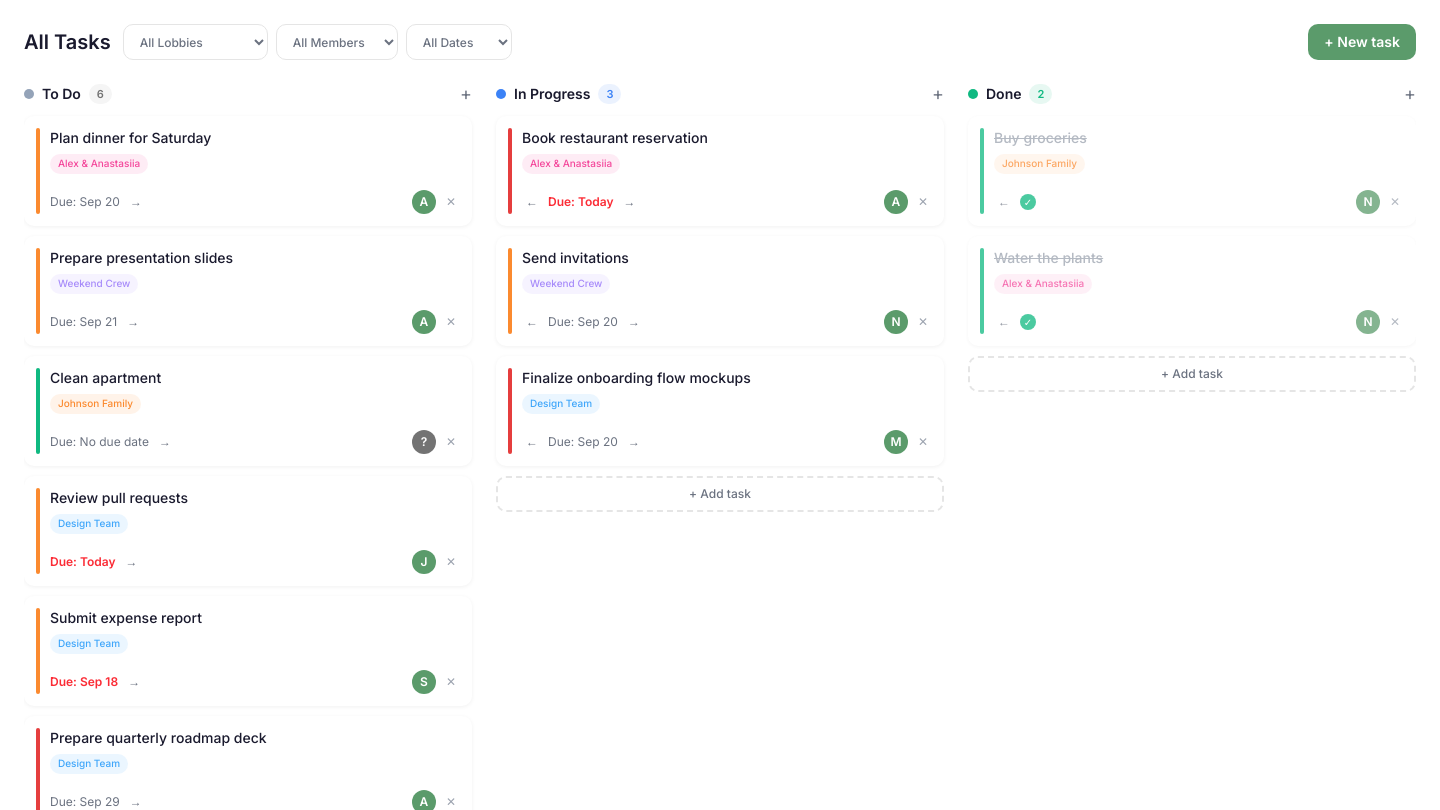
Test: KanbanBoard › shows an inline error and keeps the card in place when the move PATCH fails
This screenshot has width=1440, height=810.
Check: the text "Plan dinner for Saturday" is shown, box top-left (50, 129), bottom-right (211, 146)
Click the 1st button "→". click: (136, 202)
box: top-left (126, 194), bottom-right (146, 210)
(page scrolled)
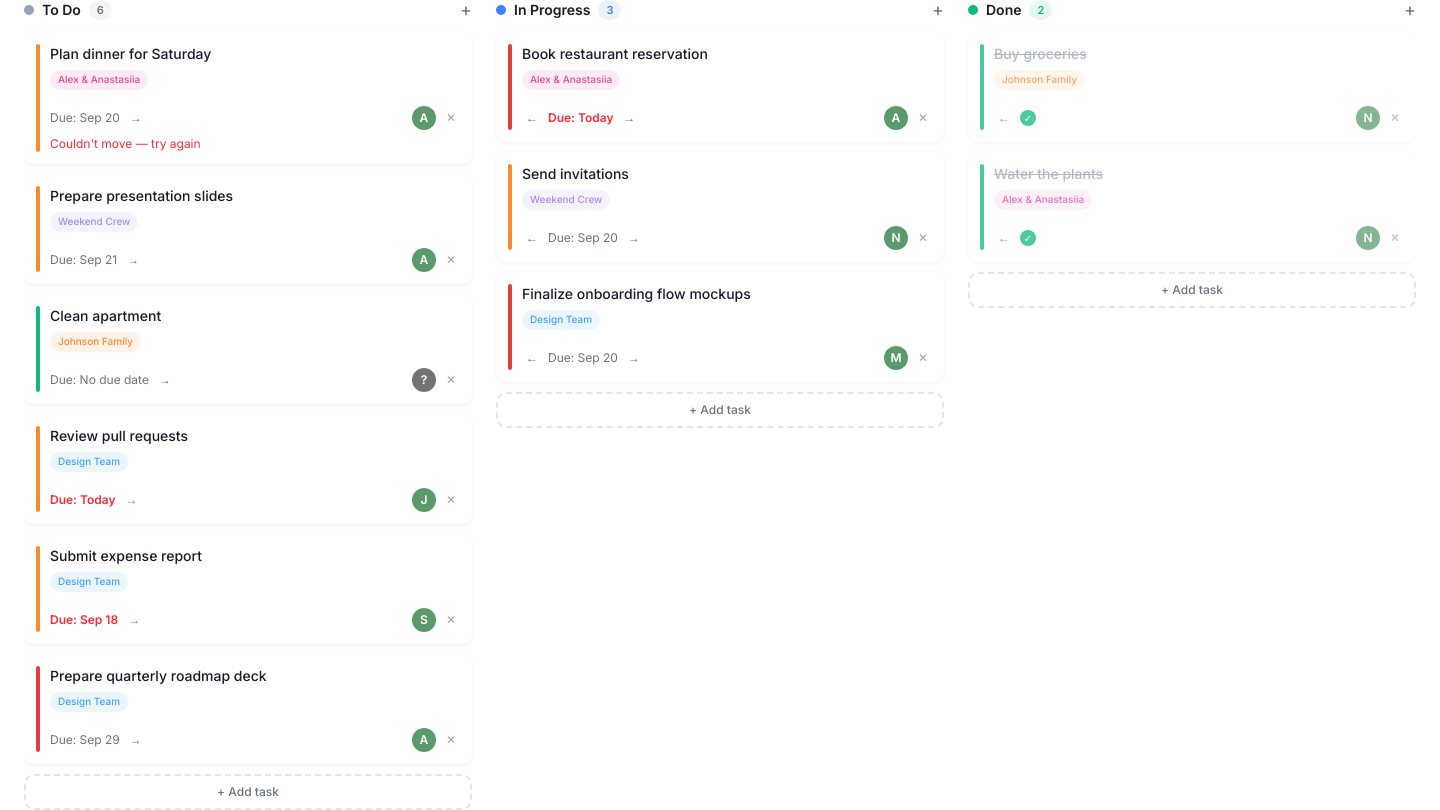
Check: the text "Couldn't move — try again" is shown, box top-left (50, 136), bottom-right (201, 151)
